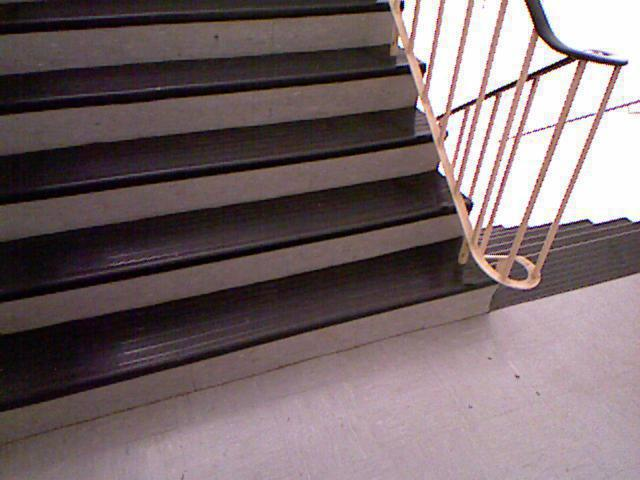Escaleras: (11, 12, 493, 405), (444, 208, 639, 326)
